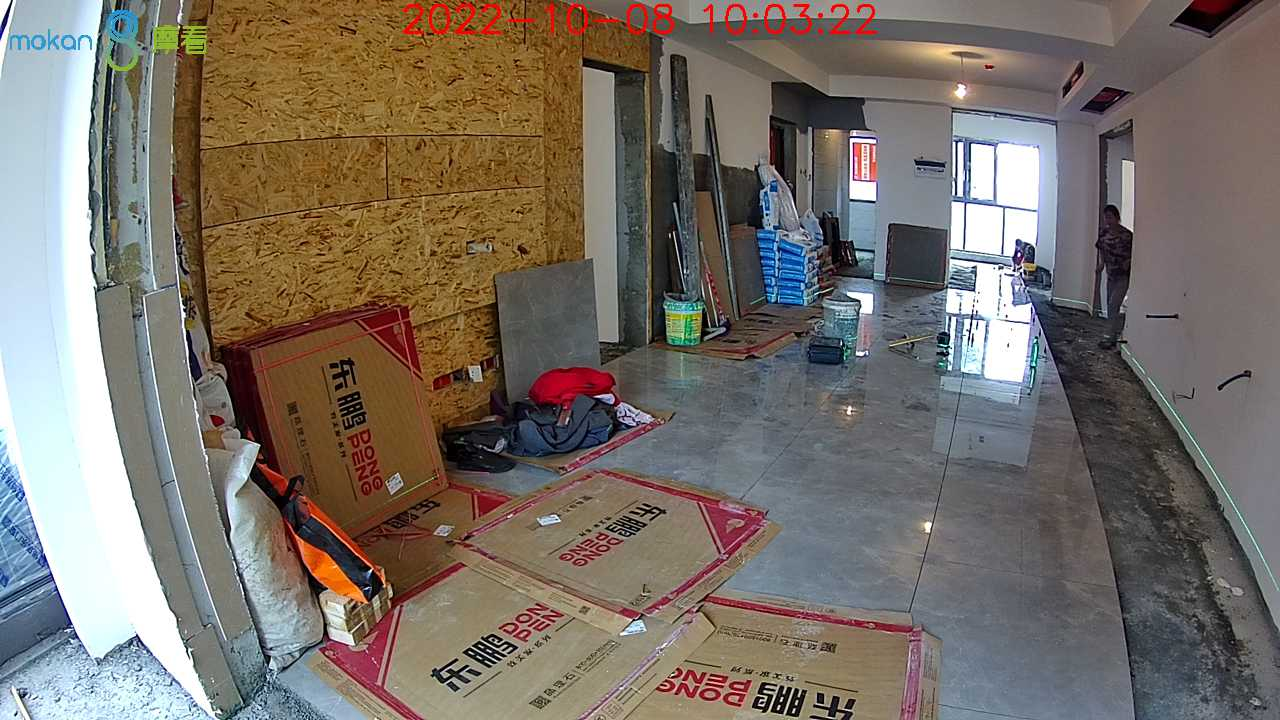people: (1096, 203, 1132, 348)
window: (953, 141, 1040, 256), (849, 138, 877, 200)
